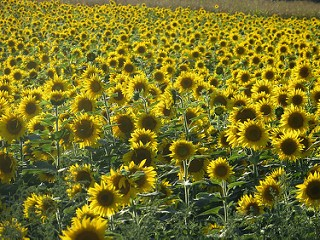flower: (55, 204, 115, 240), (66, 111, 106, 150), (85, 180, 124, 217), (277, 103, 314, 139), (270, 128, 305, 166), (236, 117, 270, 153), (235, 191, 269, 225), (294, 170, 320, 212), (254, 174, 284, 210), (0, 111, 28, 146), (167, 137, 198, 166), (111, 108, 136, 141), (174, 69, 204, 96), (205, 157, 235, 184), (127, 127, 159, 152), (0, 151, 22, 184)
